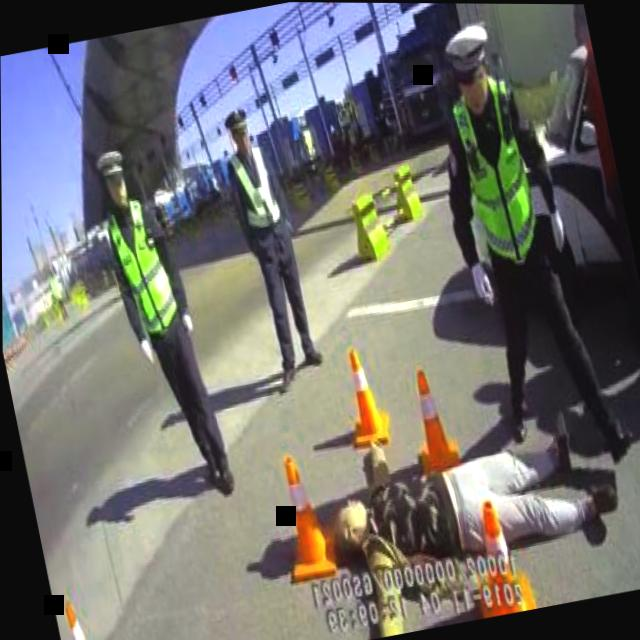Fall-Detected: (313, 393, 640, 639)
